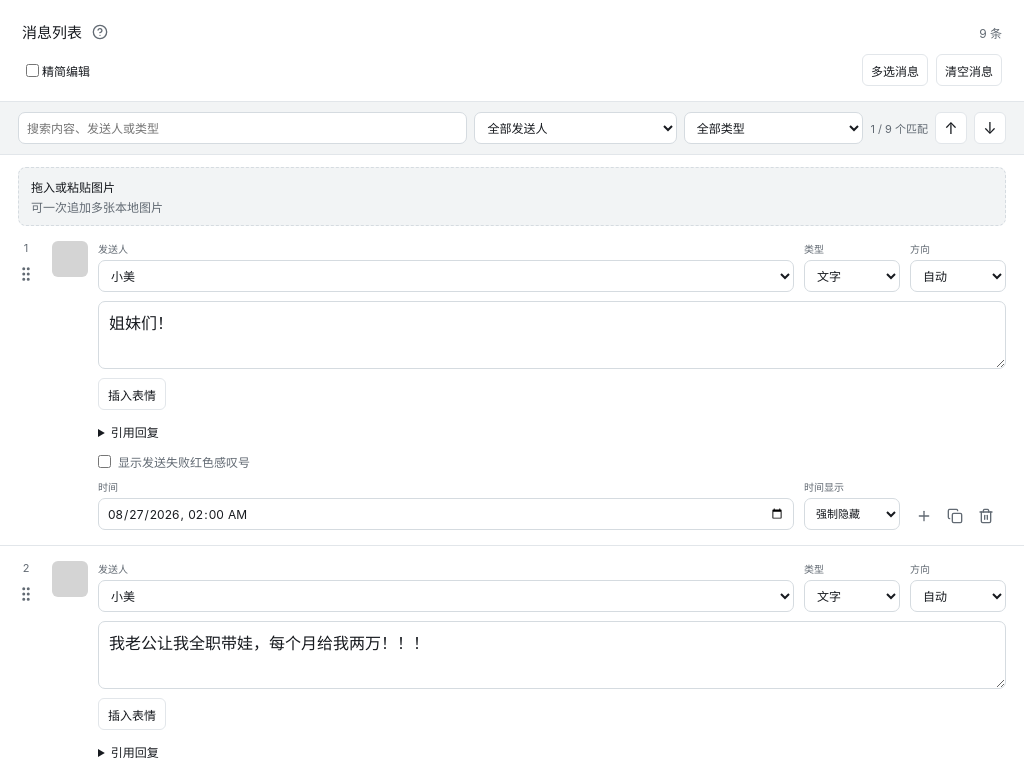
Test: MessageEditor › explains that message search locates matches without hiding the list on hover and click
This screenshot has width=1024, height=768.
Hover over the button named "说明消息搜索和定位" at [100, 32], box left=88, top=20, right=112, bottom=44
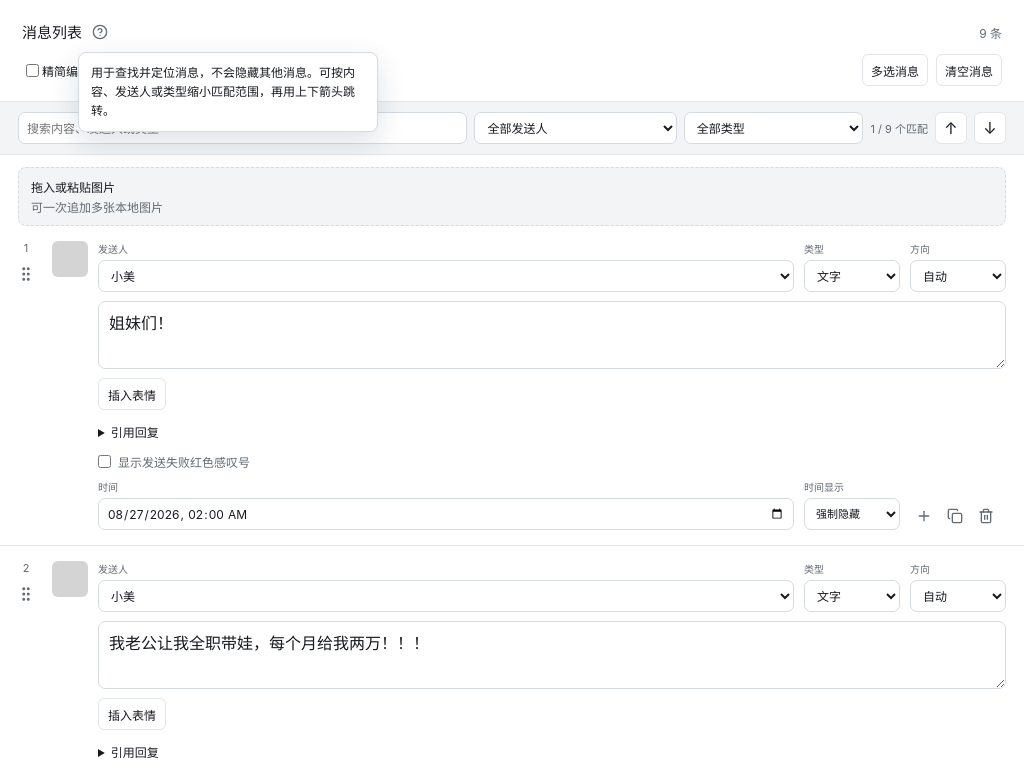
Now the tooltip shows "不会隐藏其他消息", box left=91, top=65, right=355, bottom=118
Move the pointer off the button named "说明消息搜索和定位", box left=88, top=20, right=112, bottom=44
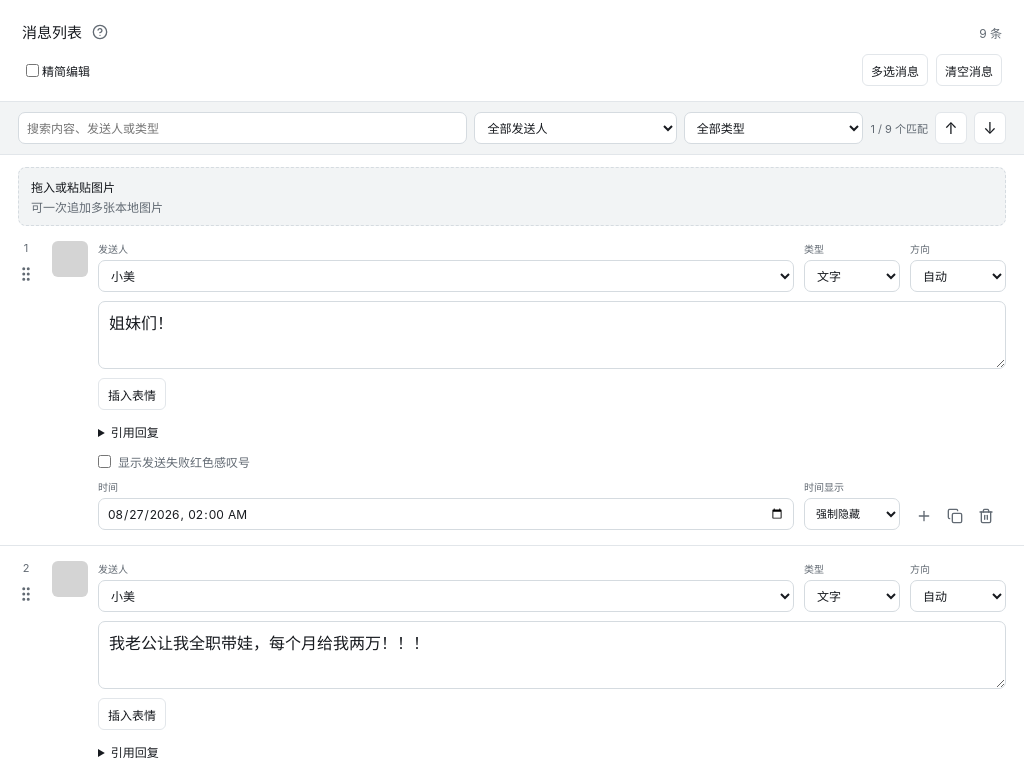
Now the tooltip "用于查找并定位消息，不会隐藏其他消息。可按内容、发送人或类型缩小匹配范围，再用上下箭头跳转。" is gone
Click the button named "说明消息搜索和定位". click: [100, 32]
box: left=88, top=20, right=112, bottom=44
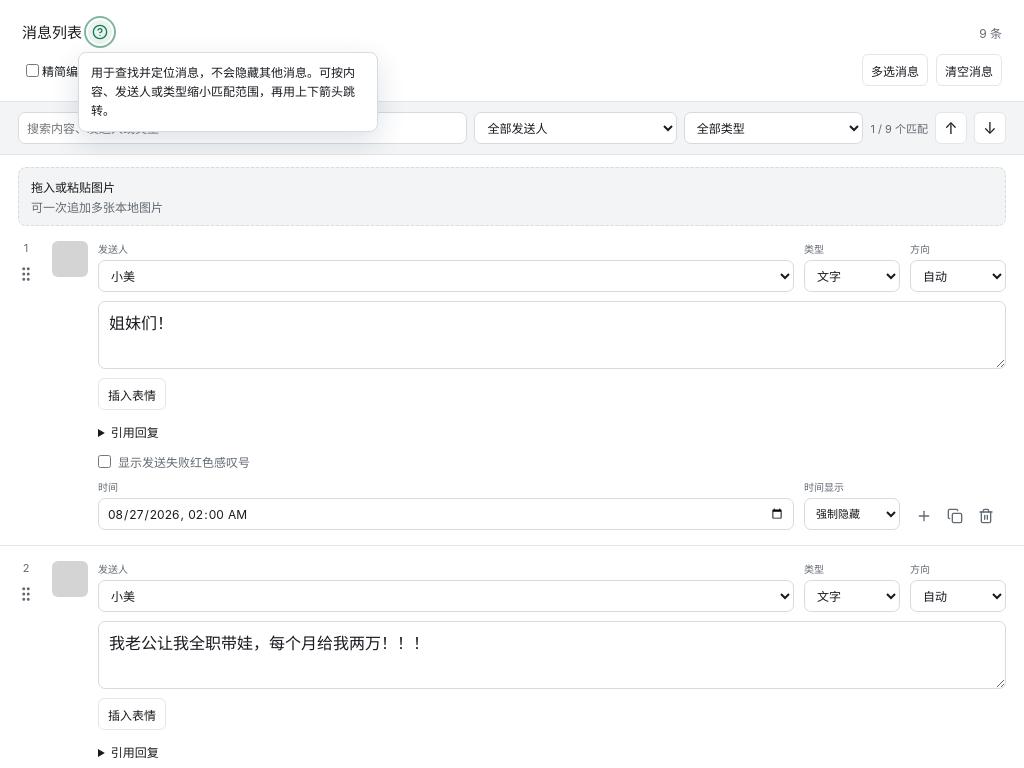
Now the tooltip shows "用上下箭头跳转", box left=91, top=65, right=355, bottom=118
Now the button named "说明消息搜索和定位" is expanded, box left=88, top=20, right=112, bottom=44
Click the heading "消息列表". click: [52, 32]
box: left=22, top=22, right=82, bottom=42
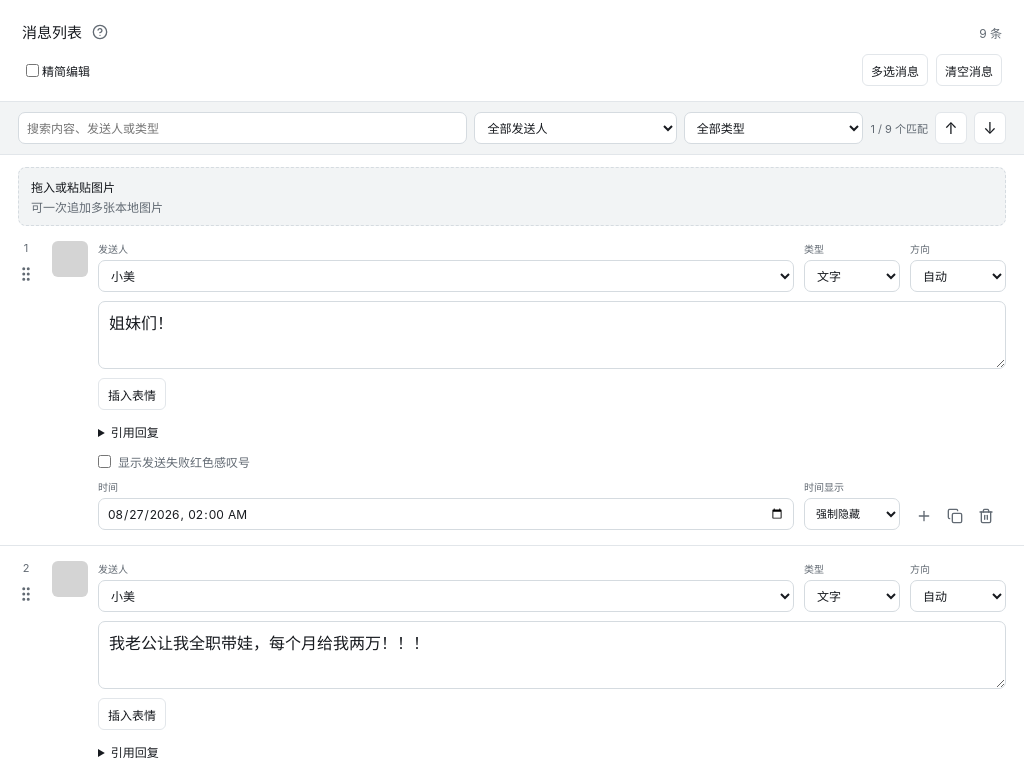
Now the tooltip "用于查找并定位消息，不会隐藏其他消息。可按内容、发送人或类型缩小匹配范围，再用上下箭头跳转。" is gone
